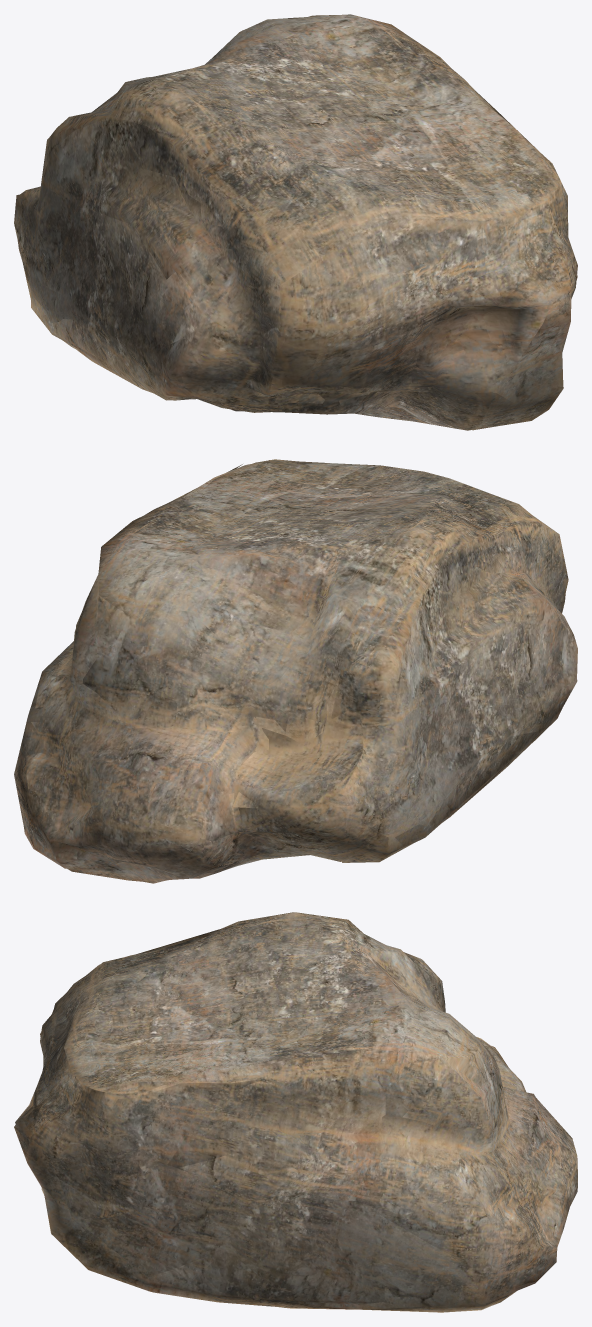
3 renders of one model, top to bottom at view 1: azimuth 30°, elevation 25°; view 2: azimuth 150°, elevation 25°; view 3: azimuth 270°, elevation 25°, orthographic. The views are drawn at different scales.
Parts seen in each view (by area): view 1: lod1, lod2; view 2: lod1, lod2; view 3: lod1, lod2.
Part boxes in pixels (<box>): lod1: <box>17,14,577,430</box>; lod2: <box>14,15,577,430</box>; lod1: <box>14,461,577,882</box>; lod2: <box>14,459,577,883</box>; lod1: <box>15,912,577,1312</box>; lod2: <box>14,914,577,1312</box>.
Size of what is drawn, in the model's own units: 4.09 by 3.11 by 5.71.
2 materials, 2 textured.
